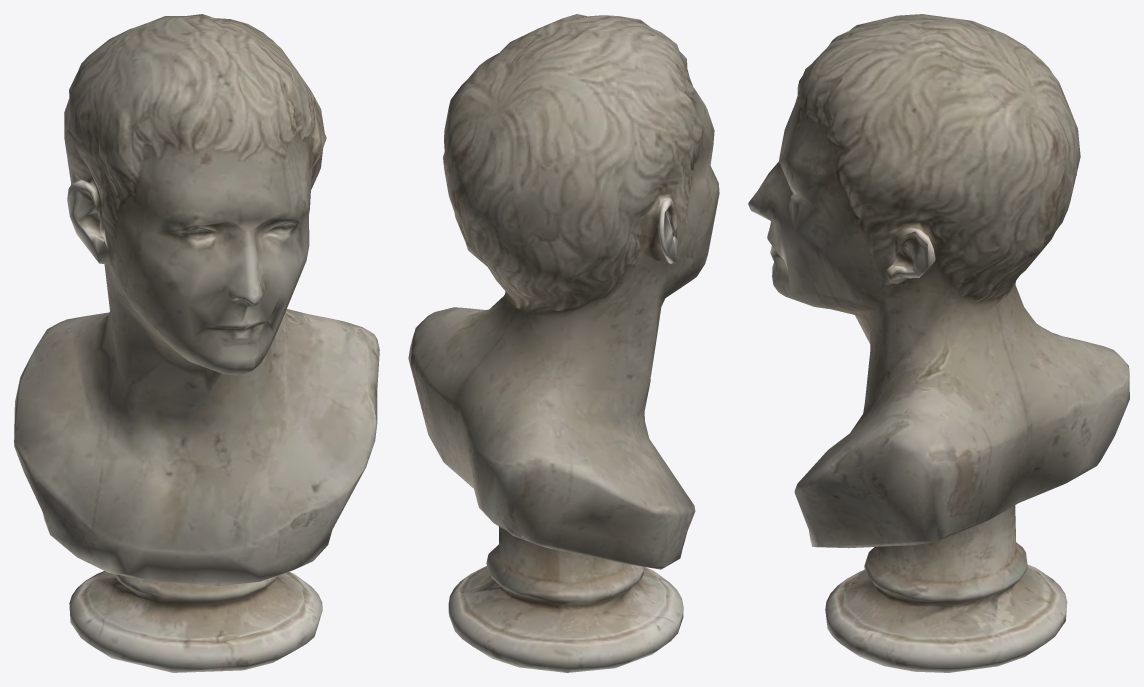
The model's file is bust.glb.
3 views of the same model, side by side, from view 1: azimuth 30°, elevation 25°; view 2: azimuth 150°, elevation 25°; view 3: azimuth 270°, elevation 25° (orthographic). The views are drawn at different scales.
Parts seen in each view (by area): view 1: marble_bust_01; view 2: marble_bust_01; view 3: marble_bust_01.
Boxes of the visible parts, x1,y1,x2,y2 form: marble_bust_01: (14,14,379,672); marble_bust_01: (408,14,719,672); marble_bust_01: (748,14,1129,672).
Bounding box in the file's own units: 0.2718 × 0.5148 × 0.2987.
1 material, 1 textured.
